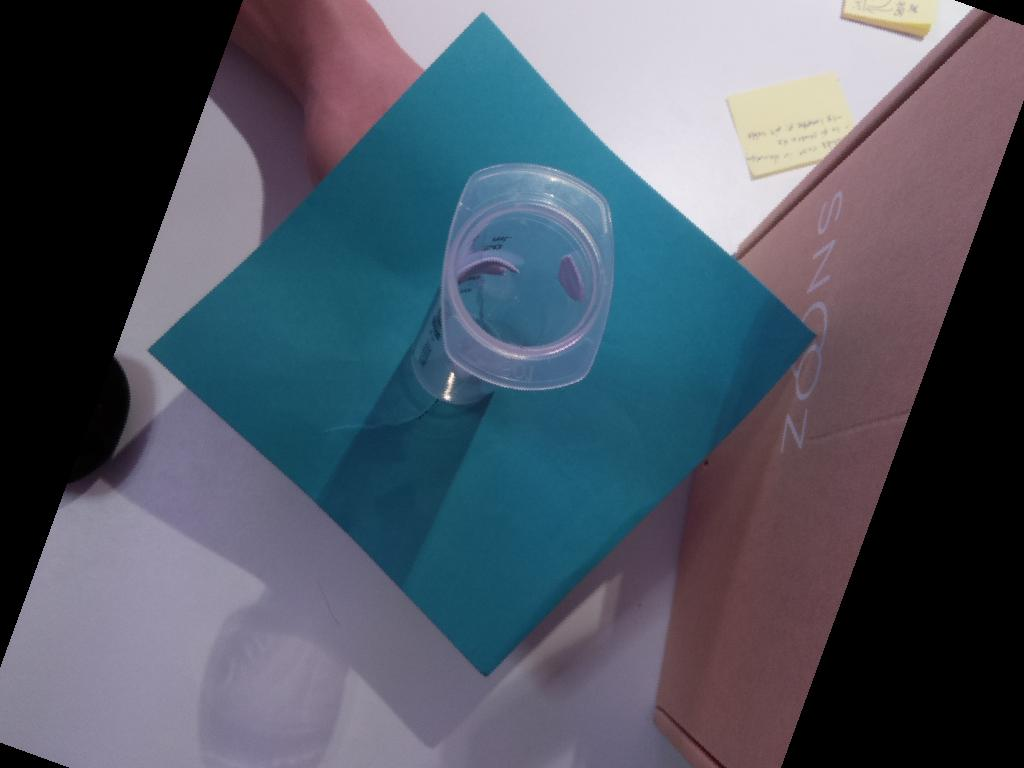dirty: (442, 163, 615, 393)
